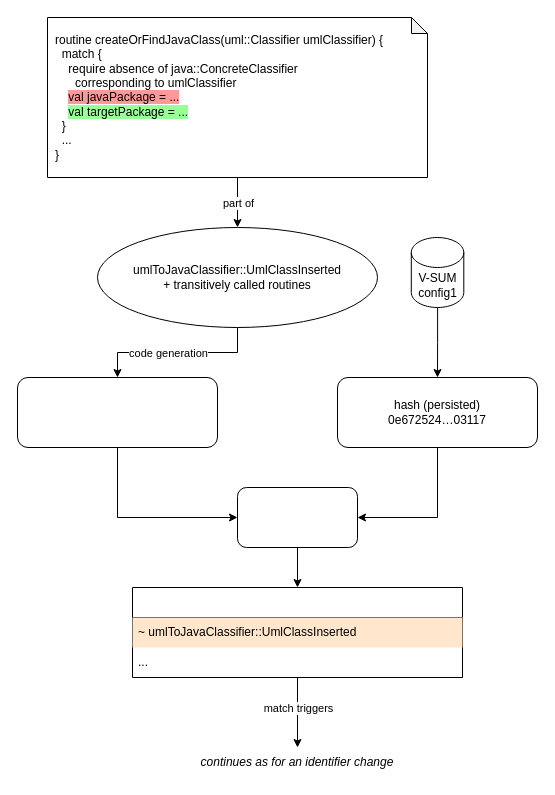
This 555x795 diagram has some shape labels left out. The shapes that lost their labels are listed below. From the top down, each one's box as (x1, y1, x2, y2) in pixels, then its label:
(16, 376, 218, 448): hash (recomputed) differs
(236, 486, 358, 548): Migration
(132, 586, 462, 678): Dirty rules
